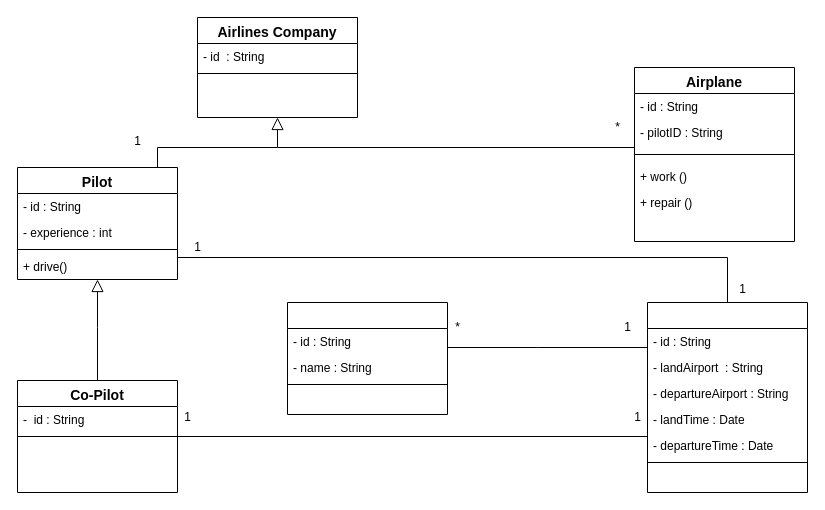
Image size: 825x510. Some labels were removed from this diagram. The shapes that lost their labels are listed below. From the top down, each one's box as (x1, y1, x2, y2) in pixels, then its label:
(286, 302, 448, 414): Airport
(646, 302, 808, 492): Flight
